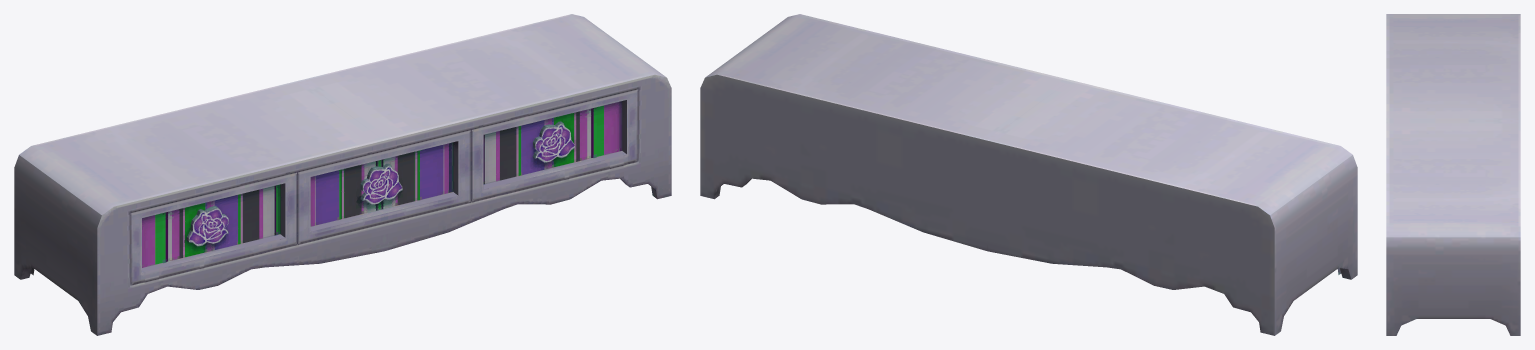
The model's file is furni_0200607_02.FBX.
3 renders of one model, left to right at view 1: azimuth 30°, elevation 25°; view 2: azimuth 150°, elevation 25°; view 3: azimuth 270°, elevation 25°, orthographic. The views are drawn at different scales.
Parts seen in each view (by area): view 1: furni_0200607_02; view 2: furni_0200607_02; view 3: furni_0200607_02.
Part boxes in pixels (left/top/right/bottom): furni_0200607_02: left=14, top=14, right=671, bottom=335; furni_0200607_02: left=700, top=14, right=1357, bottom=335; furni_0200607_02: left=1386, top=14, right=1520, bottom=335.
Bounding box in the file's own units: 240 × 50 × 60.
1 material, 1 textured.
